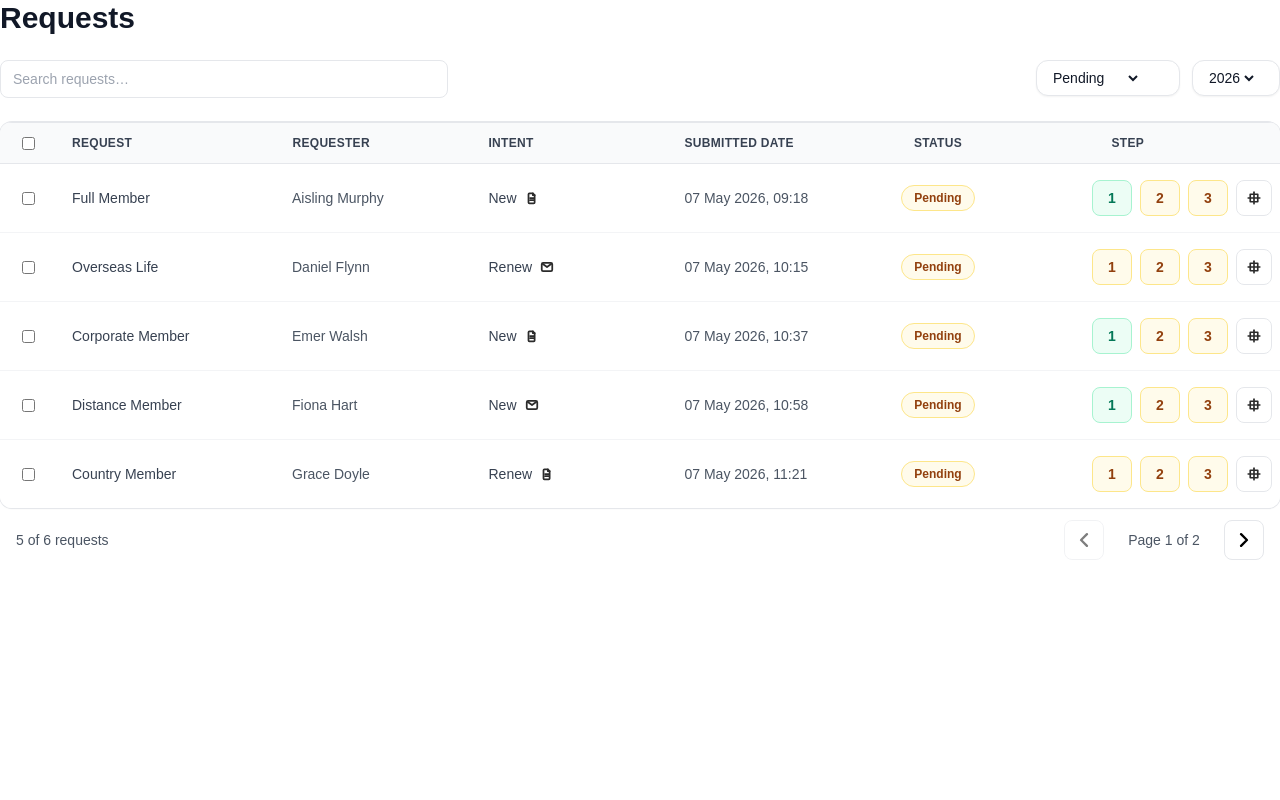
Test: RequestsPage › styling › should open a payload dialog for a request row without leaving the table
What coordinates should you click on to do the following:
click the button named "view payload for req-1001"
I would click on:
 (1254, 198)
Its box is 1236,180 -> 1272,216.
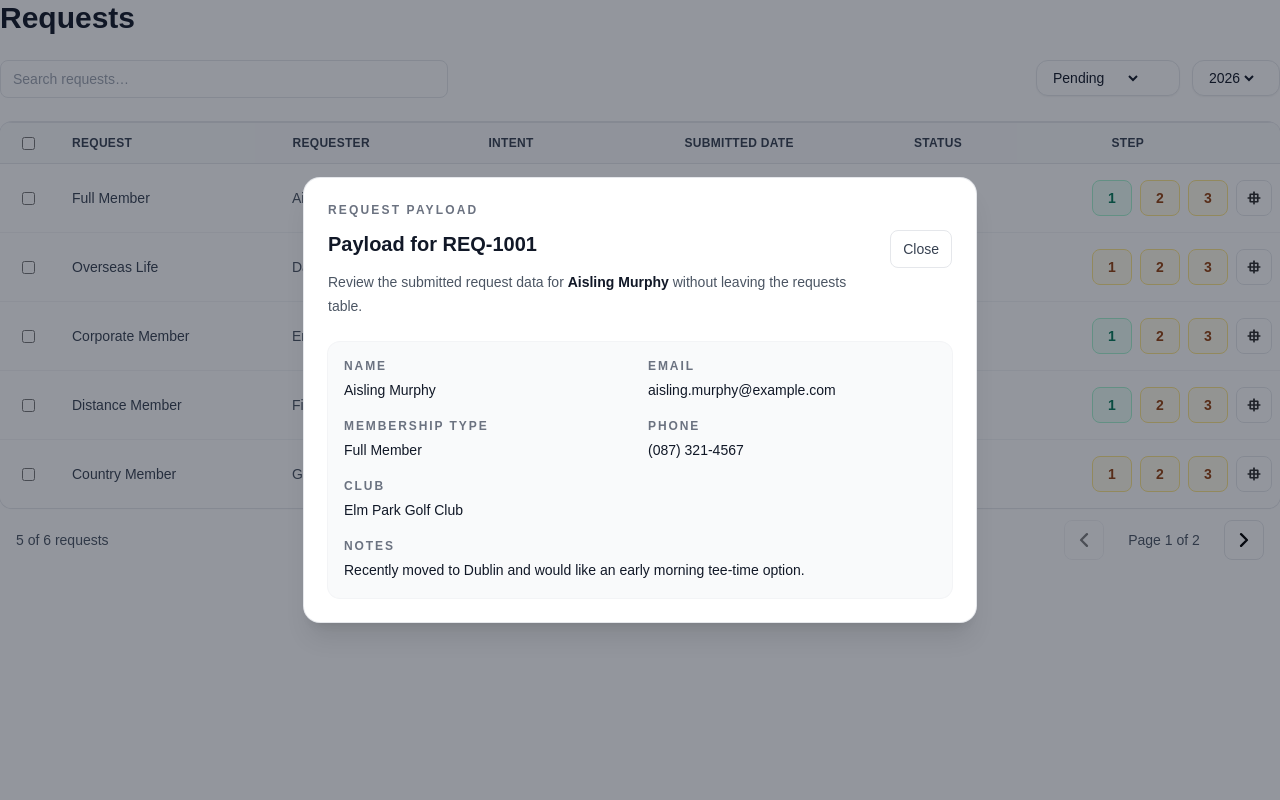
Check: the dialog "Payload for REQ-1001" is shown, box 304,178 -> 976,622
Check: the text "aisling.murphy@example.com" is shown, box 648,382 -> 836,398
Check: the text "Elm Park Golf Club" is shown, box 344,502 -> 463,518
